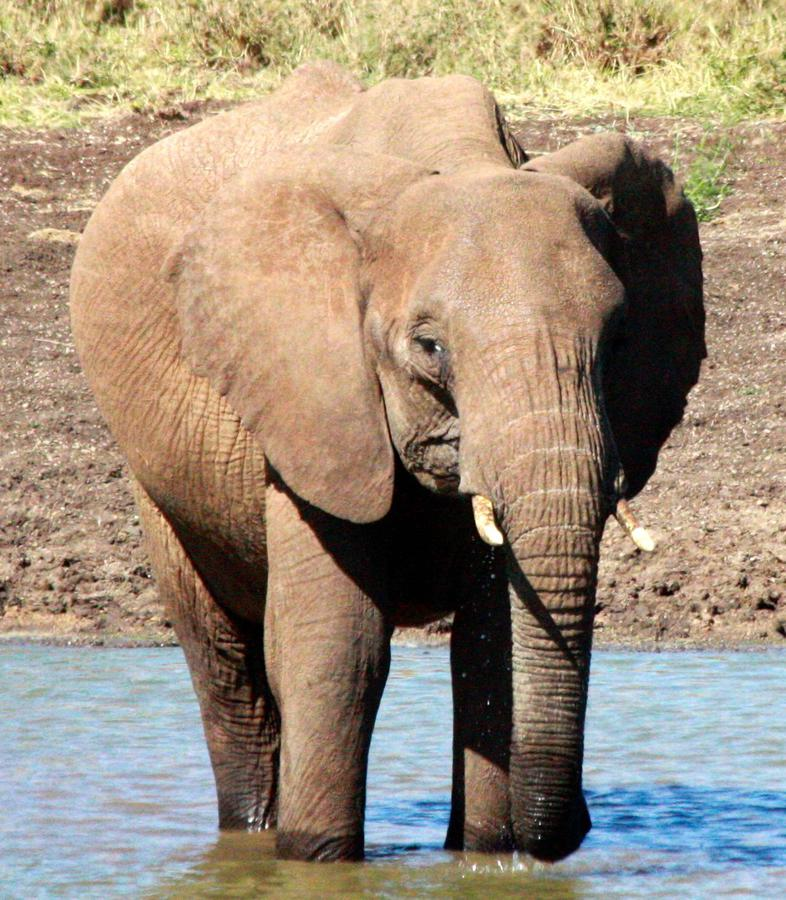elephant: (224, 147, 690, 564)
